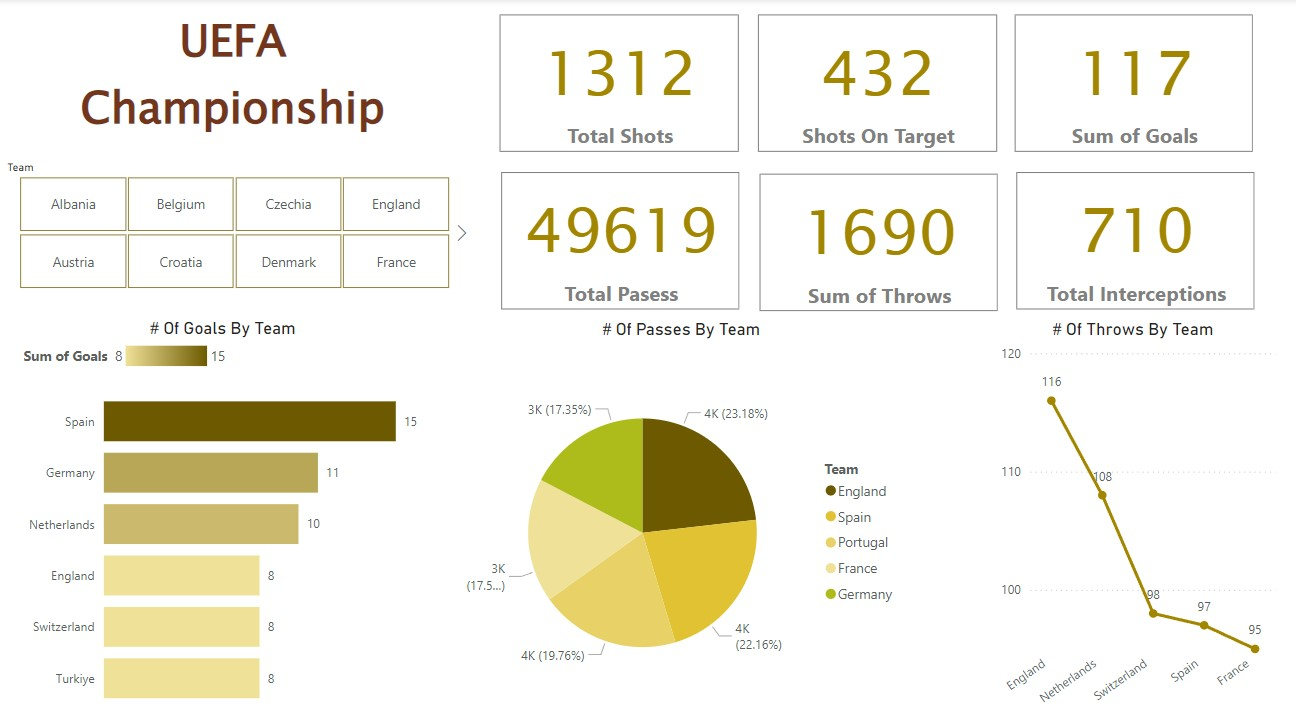

This screenshot's page, from the dashboard's own definition file:
{"tool":"powerbi","page":{"name":"Page 1","canvas":[1280,720],"ordinal":0},"visuals":[{"type":"cardVisual","fields":{"Data":["Sum(Appended Table.Pasess)"]},"box":[492.9,166,244.4,145.9],"z":0},{"type":"cardVisual","fields":{"Data":["Sum(Appended Table.Total shots)"]},"box":[492.2,10.9,245,145.9],"z":1000},{"type":"cardVisual","fields":{"Data":["Sum(Appended Table.Shots on target)"]},"box":[745.7,10.9,245,145.9],"z":2000},{"type":"cardVisual","fields":{"Data":["Sum(Appended Table.Throws)"]},"box":[746.5,167.8,244.4,145.9],"z":3000},{"type":"cardVisual","fields":{"Data":["Sum(Appended Table.Goals)"]},"box":[997.8,10.9,244.4,145.9],"z":4000},{"type":"textbox","box":[41.3,5.4,385.8,147.2],"z":5000},{"type":"slicer","fields":{"Values":["Appended Table.Team"]},"box":[0,155.1,470.6,136.8],"z":6000},{"type":"cardVisual","fields":{"Data":["Sum(Appended Table.Interceptions)"]},"box":[998.2,166,244.4,145.9],"z":7000},{"type":"barChart","title":"# Of Goals By Team","fields":{"Category":["Appended Table.Team"],"Y":["Sum(Appended Table.Goals)"]},"box":[23.7,313.8,401.3,399.5],"z":8000},{"type":"pieChart","title":"# Of Passes By Team","fields":{"Category":["Appended Table.Team"],"Y":["Sum(Appended Table.Pasess)"]},"box":[452.4,315.6,443.3,399.5],"z":9000},{"type":"lineChart","title":"# Of Throws By Team","fields":{"Y":["Sum(Appended Table.Throws)"],"Category":["Appended Table.Team"]},"box":[974.1,315.6,290,399.5],"z":10000}]}

Visuals, with their boxes in screenshot pixels (x1, y1, x2, y2), scaled from the page's 1280x720 canvas onto the 1296x722 screenshot:
cardVisual - Sum(Appended Table.Pasess): x1=499 y1=166 x2=747 y2=313
cardVisual - Sum(Appended Table.Total shots): x1=498 y1=11 x2=746 y2=157
cardVisual - Sum(Appended Table.Shots on target): x1=755 y1=11 x2=1003 y2=157
cardVisual - Sum(Appended Table.Throws): x1=756 y1=168 x2=1003 y2=315
cardVisual - Sum(Appended Table.Goals): x1=1010 y1=11 x2=1258 y2=157
textbox: x1=42 y1=5 x2=432 y2=153
slicer - Appended Table.Team: x1=0 y1=156 x2=476 y2=293
cardVisual - Sum(Appended Table.Interceptions): x1=1011 y1=166 x2=1258 y2=313
"# Of Goals By Team" barChart: x1=24 y1=315 x2=430 y2=715
"# Of Passes By Team" pieChart: x1=458 y1=316 x2=907 y2=717
"# Of Throws By Team" lineChart: x1=986 y1=316 x2=1280 y2=717
